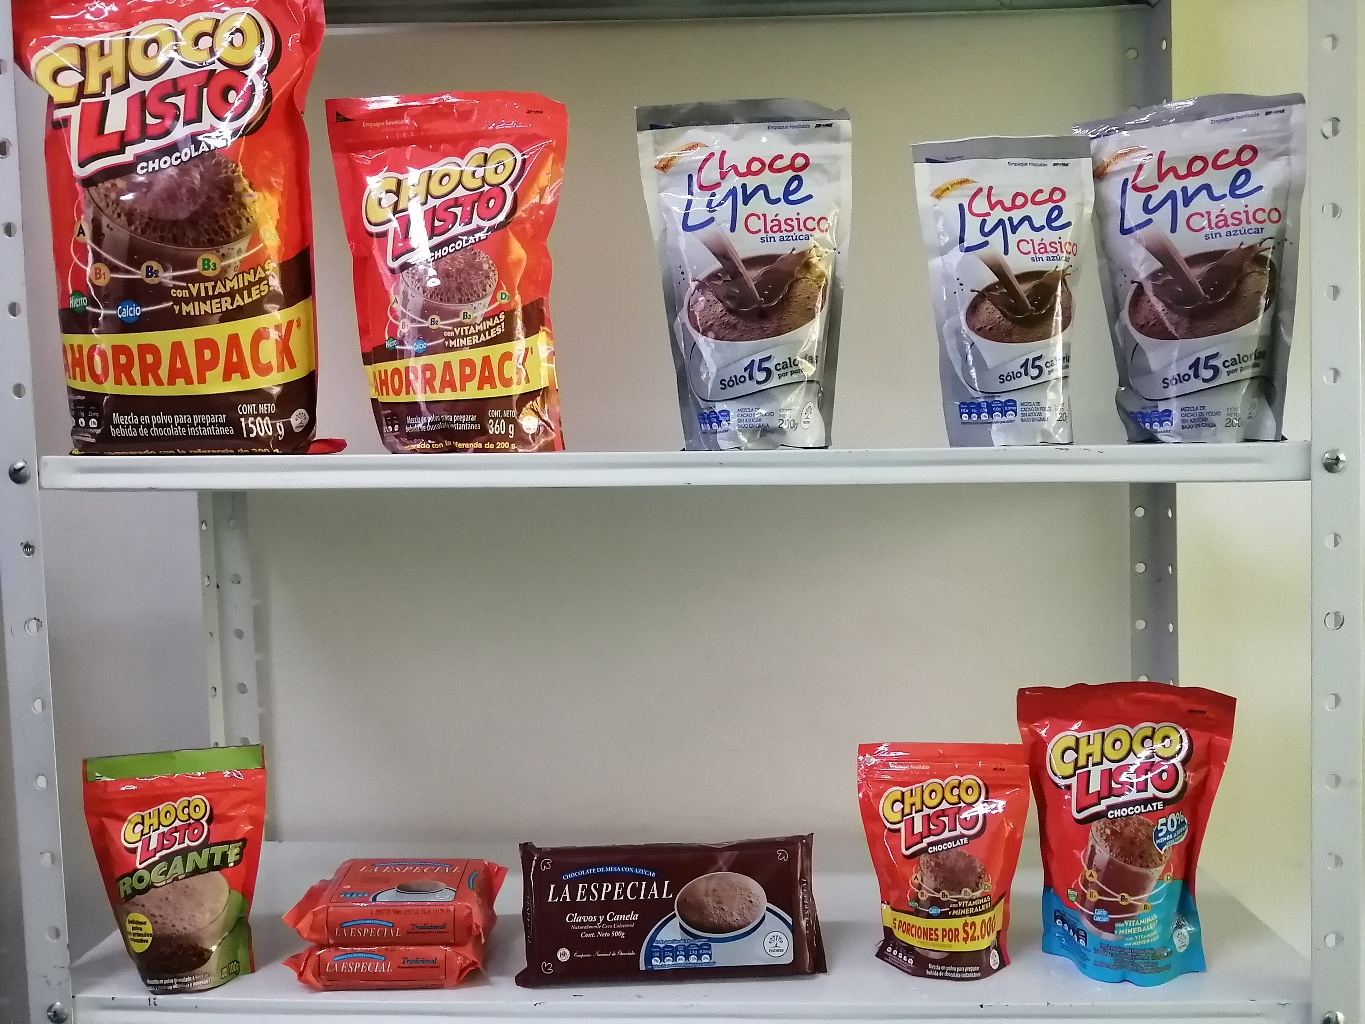COL0170102DYP10000: (73, 721, 266, 983)
COL0170103DYP1,500: (13, 0, 340, 460)
COL0170103DYP36000: (321, 77, 591, 477)
COL0170104DYP20000: (1023, 670, 1251, 994)
